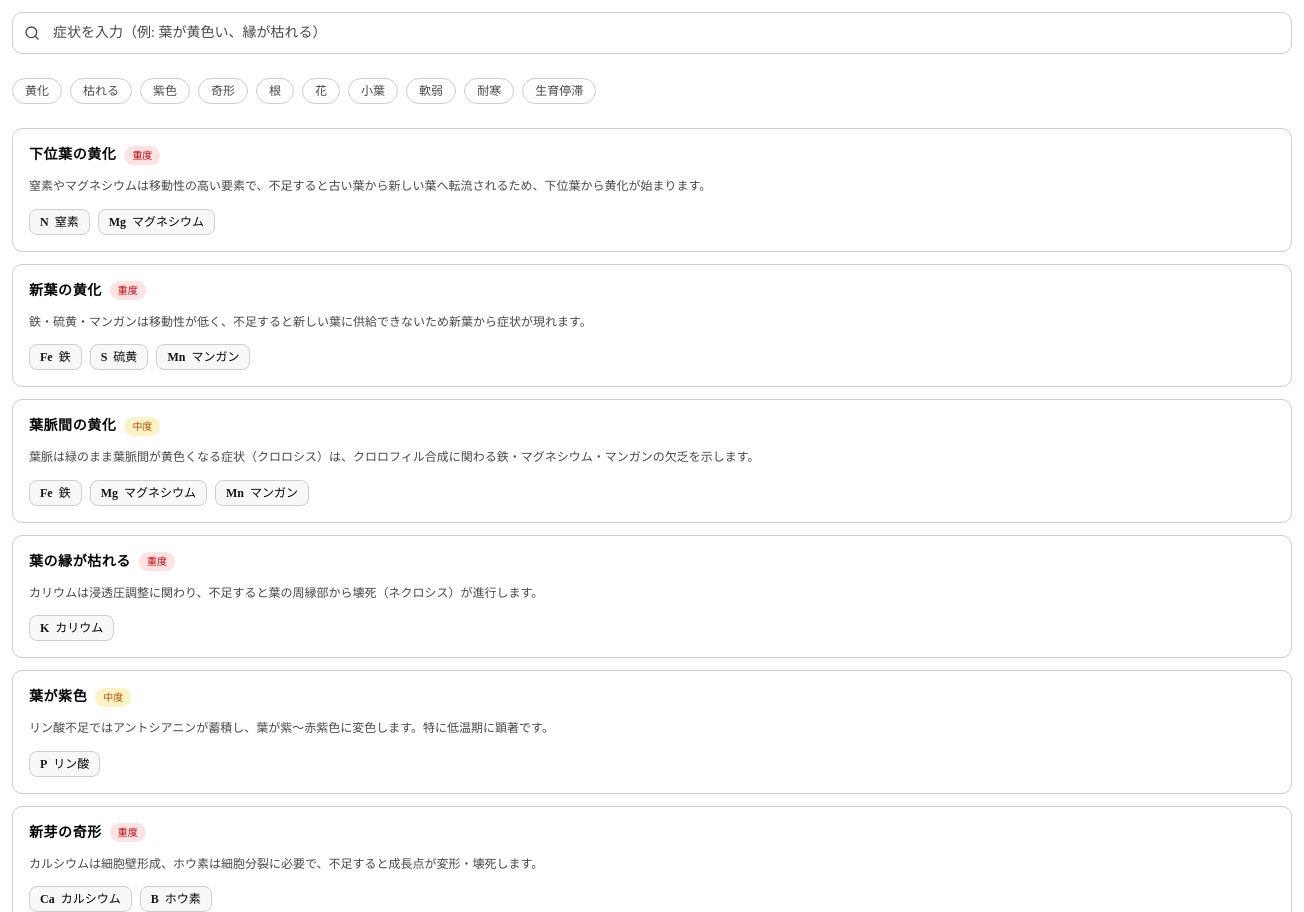
Test: NutrientSymptomSearch › 該当しないクエリで「該当する症状が見つかりませんでした」を表示
Type "xyz_no_match" into the field with placeholder "症状を入力（例: 葉が黄色い、縁が枯れる）".
click(652, 33); type("xyz_no_match")  # box 12,12 -> 1292,54
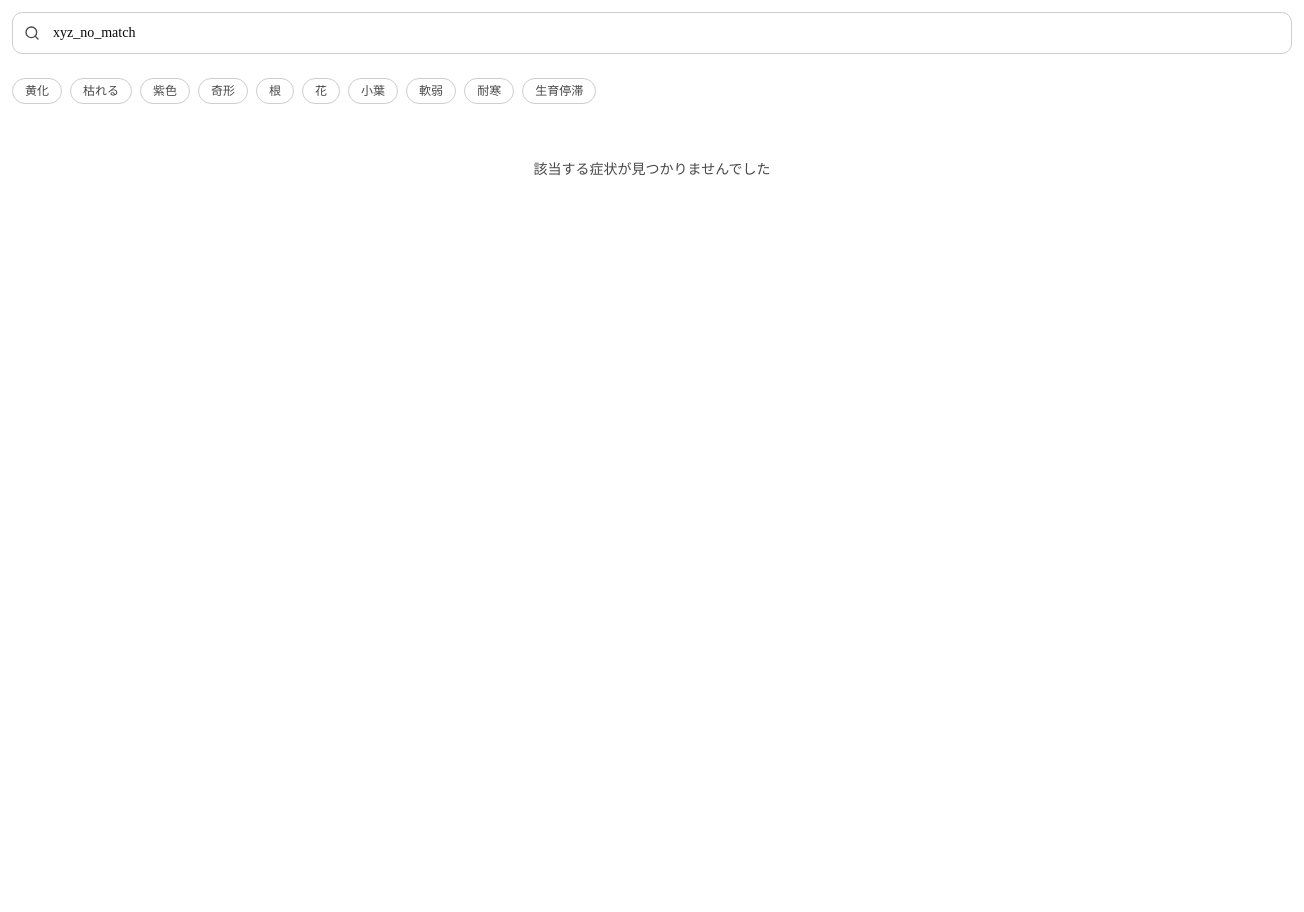
Expected: the text "該当する症状が見つかりませんでした" is shown, 534,162 -> 770,177
